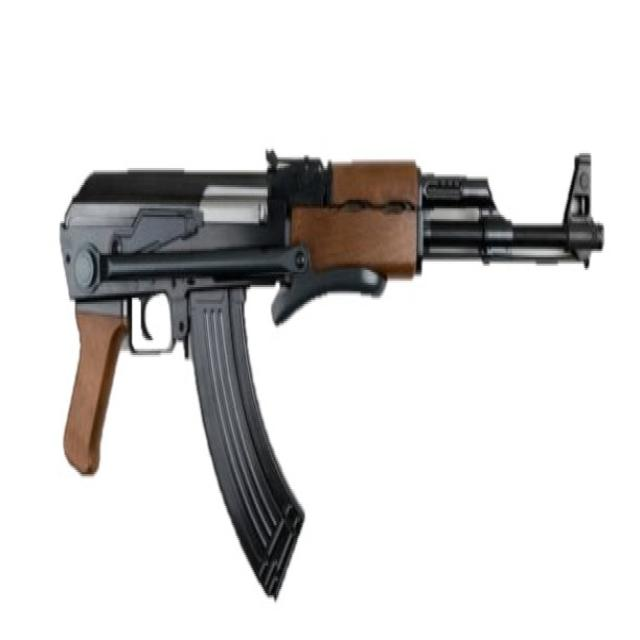rifle: (57, 133, 610, 616)
